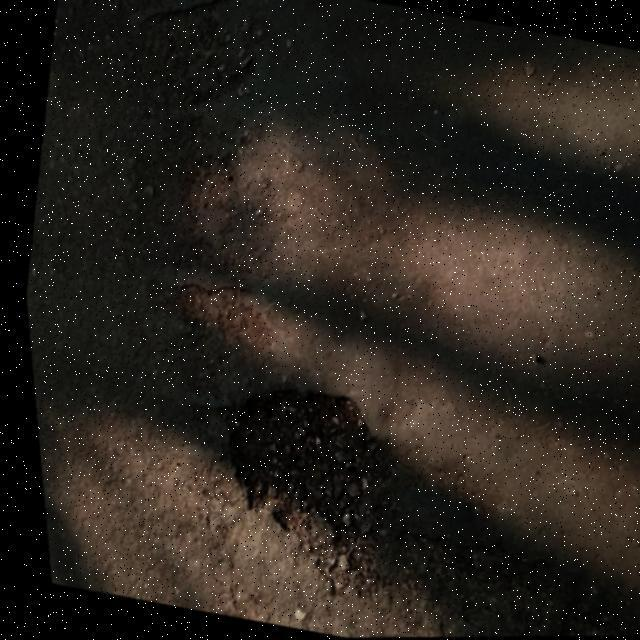pothole: (178, 361, 420, 619)
